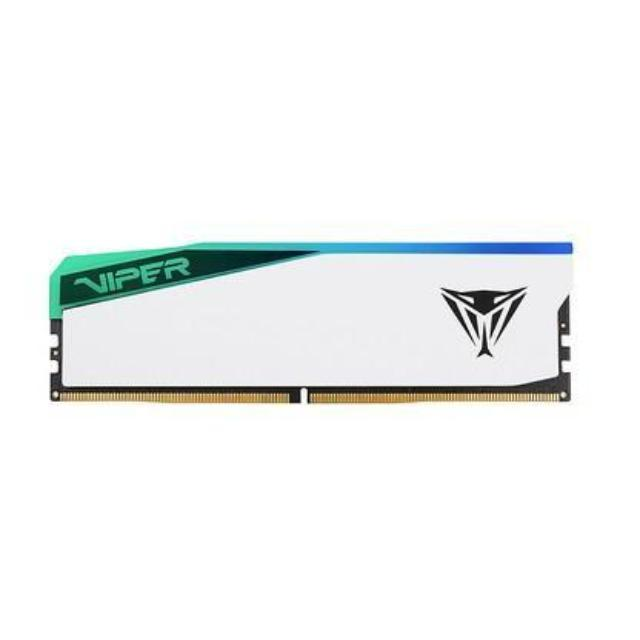RAM: (51, 238, 584, 410)
